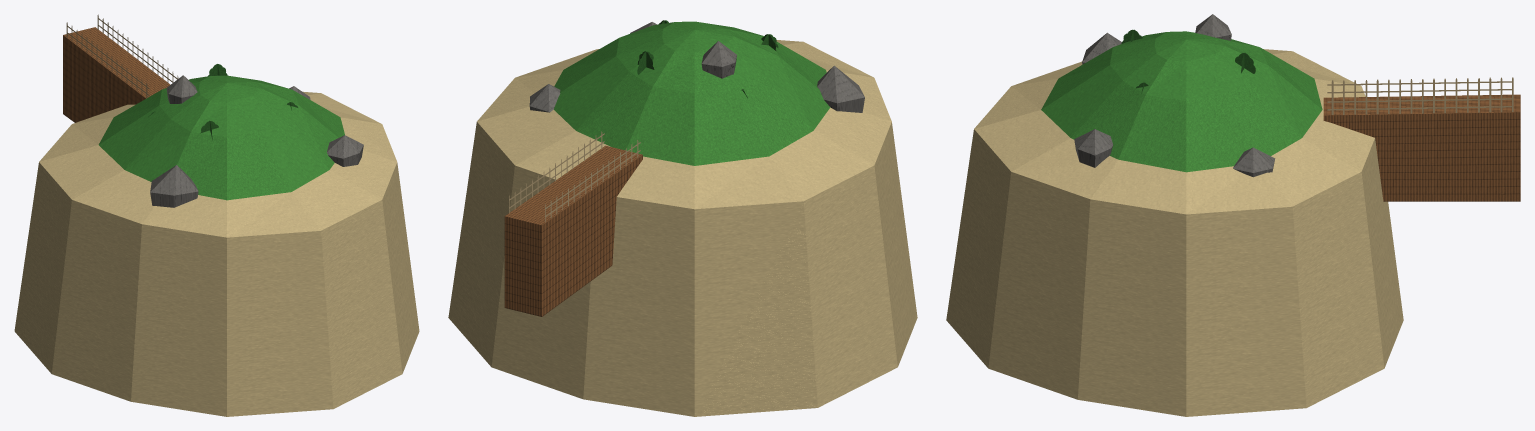
File: island.glb
3 views of the same model, side by side, from view 1: azimuth 30°, elevation 25°; view 2: azimuth 150°, elevation 25°; view 3: azimuth 270°, elevation 25° (orthographic). The views are drawn at different scales.
Parts seen in each view (by area): view 1: island; view 2: island; view 3: island.
Boxes of the visible parts, x1,y1,x2,y2 form: island: [14, 14, 419, 416]; island: [448, 20, 917, 416]; island: [946, 14, 1520, 416].
Size of the model in its own units: 26 by 18.1 by 32.65.
Materials: 10 (6 with a texture image).
